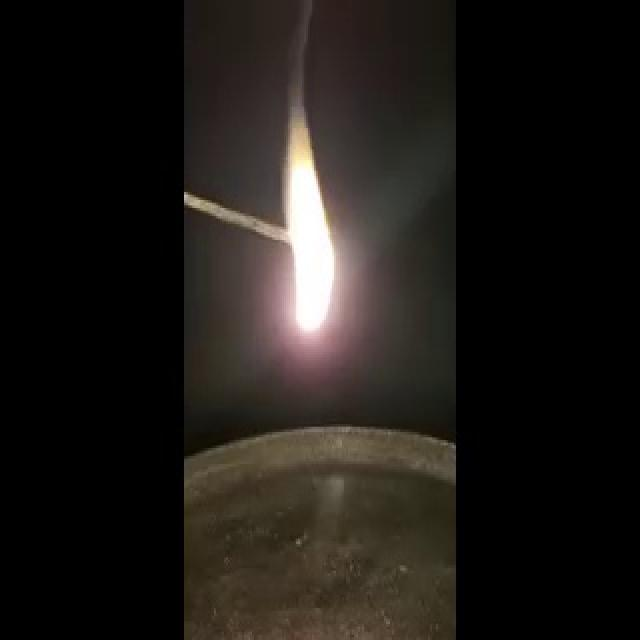fire: (280, 122, 350, 352)
